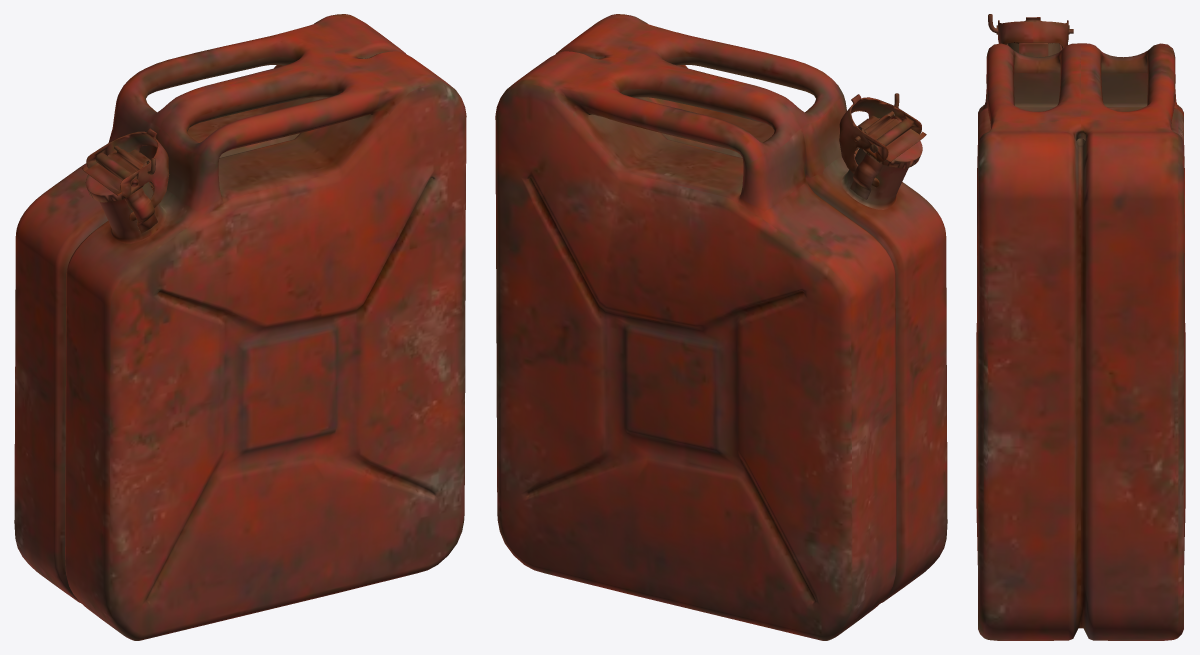
File: ph_metal_jerrycan.glb
3 renders of one model, left to right at view 1: azimuth 30°, elevation 25°; view 2: azimuth 150°, elevation 25°; view 3: azimuth 270°, elevation 25°, orthographic. The views are drawn at different scales.
Parts seen in each view (by area): view 1: metal_jerrycan; view 2: metal_jerrycan; view 3: metal_jerrycan.
Part boxes in pixels (x1,y1,x2,y2): metal_jerrycan: (14, 14, 466, 640); metal_jerrycan: (495, 14, 947, 640); metal_jerrycan: (976, 14, 1185, 640).
Size of the model in its own units: 0.3503 by 0.4552 by 0.1718.
Materials: 1 (1 with a texture image).
